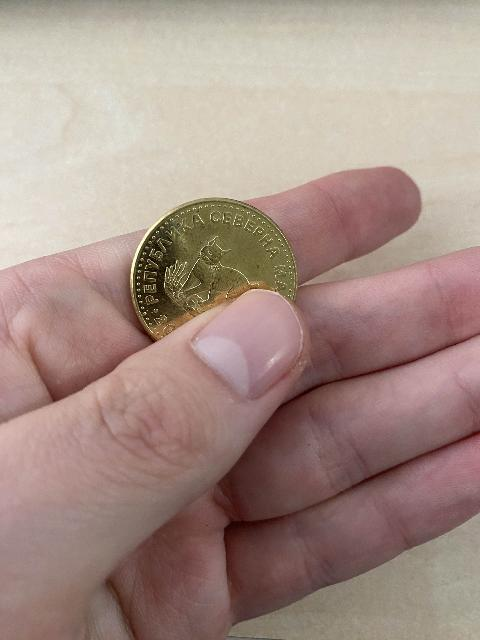5_coin: (131, 198, 297, 339)
